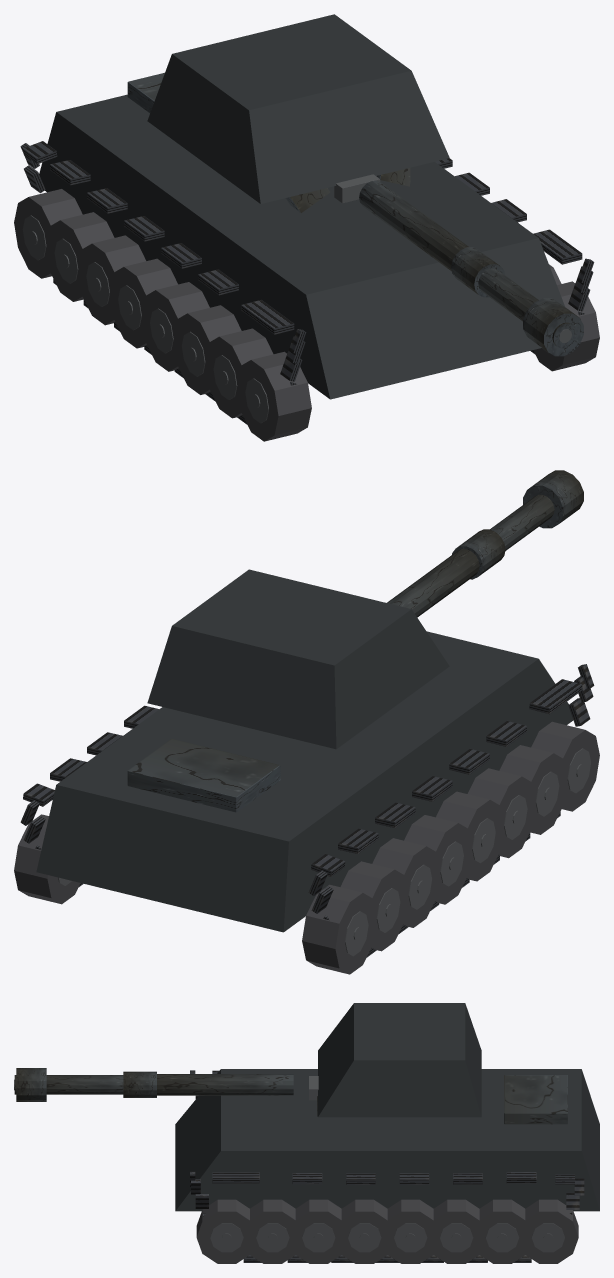
The model's file is colossus_LOD2.glb.
3 renders of one model, top to bottom at view 1: azimuth 30°, elevation 25°; view 2: azimuth 150°, elevation 25°; view 3: azimuth 270°, elevation 25°, orthographic. The views are drawn at different scales.
Visible parts, largest first — view 1: HullMesh, TurretMesh, Wheels_L, TrackL, Gun_tube1, TrackR, Gun_brk, Wheels_R, Gun_tube2, Gun_ext; view 2: HullMesh, TurretMesh, Wheels_L, TrackL, Gun_tube1, Wheels_R, TrackR, Gun_brk, Gun_tube2, Gun_ext; view 3: HullMesh, Wheels_R, TurretMesh, TrackR, Gun_tube1, Gun_tube2, Gun_brk, Gun_ext.
Boxes of the visible parts, left/top/right/bottom form: HullMesh: left=39, top=72, right=564, bottom=399; TurretMesh: left=147, top=14, right=449, bottom=212; Wheels_L: left=14, top=189, right=311, bottom=441; TrackL: left=20, top=141, right=306, bottom=424; Gun_tube1: left=359, top=180, right=468, bottom=270; TrackR: left=435, top=158, right=594, bottom=354; Gun_brk: left=523, top=298, right=583, bottom=356; Wheels_R: left=533, top=264, right=599, bottom=371; Gun_tube2: left=478, top=268, right=576, bottom=348; Gun_ext: left=451, top=247, right=504, bottom=297; HullMesh: left=36, top=631, right=573, bottom=932; TurretMesh: left=147, top=569, right=449, bottom=749; Wheels_L: left=302, top=721, right=599, bottom=974; TrackL: left=308, top=664, right=594, bottom=957; Gun_tube1: left=387, top=549, right=479, bottom=617; Wheels_R: left=14, top=814, right=80, bottom=904; TrackR: left=20, top=705, right=158, bottom=887; Gun_brk: left=523, top=470, right=583, bottom=528; Gun_tube2: left=490, top=494, right=554, bottom=550; Gun_ext: left=452, top=529, right=505, bottom=579; HullMesh: left=175, top=1069, right=599, bottom=1211; Wheels_R: left=196, top=1199, right=578, bottom=1263; TurretMesh: left=309, top=1003, right=481, bottom=1117; TrackR: left=190, top=1171, right=584, bottom=1262; Gun_tube1: left=157, top=1074, right=293, bottom=1095; Gun_tube2: left=14, top=1075, right=123, bottom=1094; Gun_brk: left=16, top=1068, right=46, bottom=1101; Gun_ext: left=123, top=1071, right=156, bottom=1097.
Bounding box in the file's own units: 4.47 × 3.22 × 9.66.
Materials: 5 (3 with a texture image).
